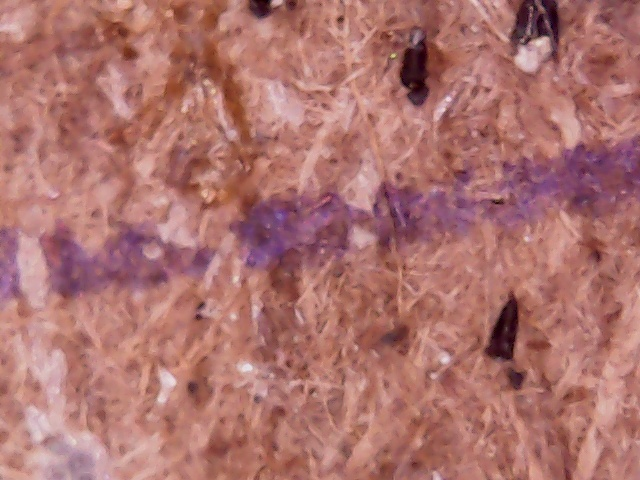full: (393, 21, 438, 112), (485, 287, 525, 366)
